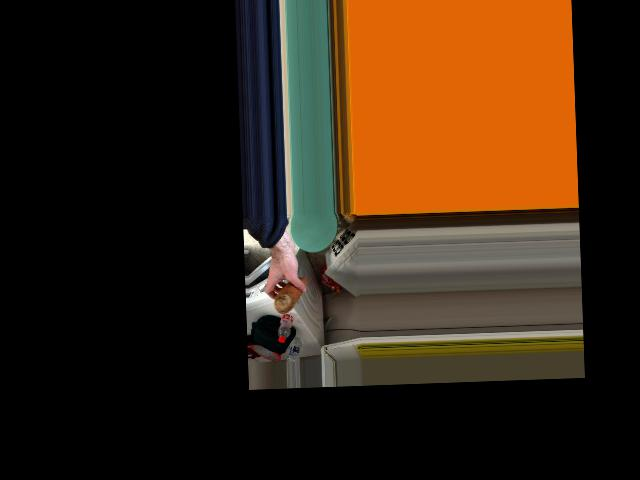sweet_potato: (276, 277, 309, 314)
